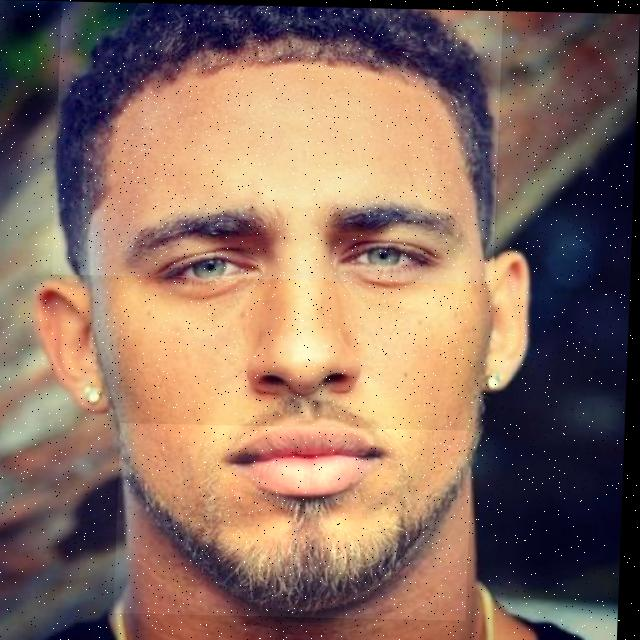beard: (124, 423, 474, 616)
hair: (59, 5, 498, 275)
